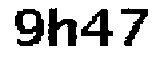4: (78, 6, 115, 50)
7: (118, 5, 149, 50)
9: (12, 6, 46, 49)
h: (48, 6, 78, 50)
